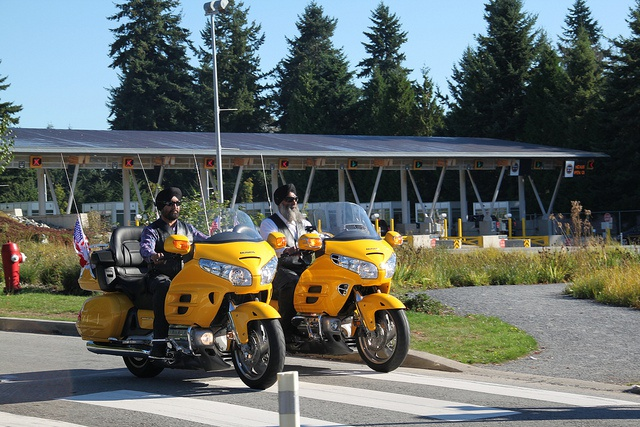non-vehicle: (74, 211, 286, 389), (260, 202, 410, 373)
